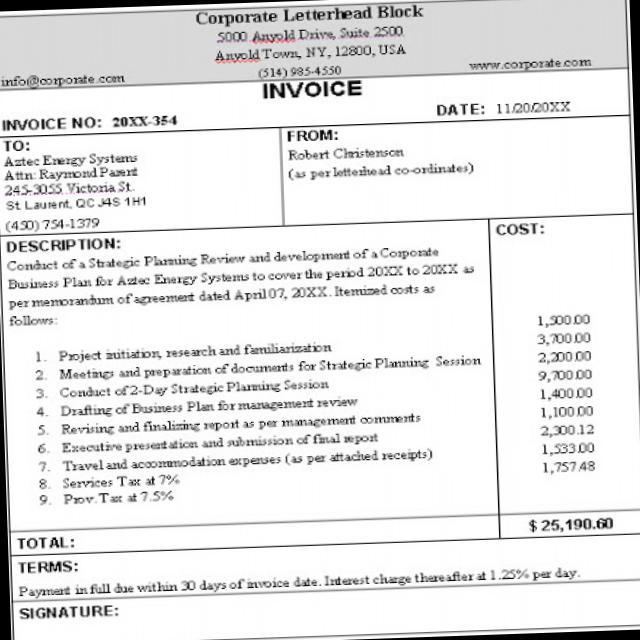customer_address: (0, 182, 151, 211)
customer_name: (0, 150, 146, 181)
invoice_date: (491, 100, 578, 118)
invoice_number: (533, 306, 600, 484), (108, 114, 185, 131)
invoice_total: (523, 514, 619, 536)
item_description: (54, 338, 489, 514)
supplier_address: (212, 28, 414, 65)
supplier_name: (194, 6, 430, 26)
